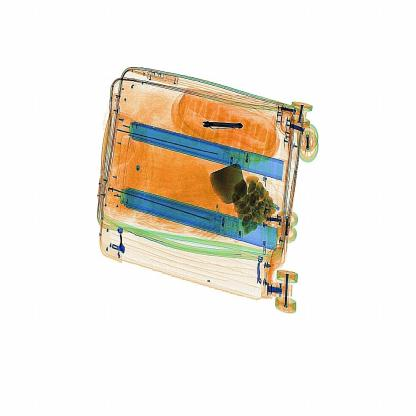knife: (199, 118, 246, 135)
